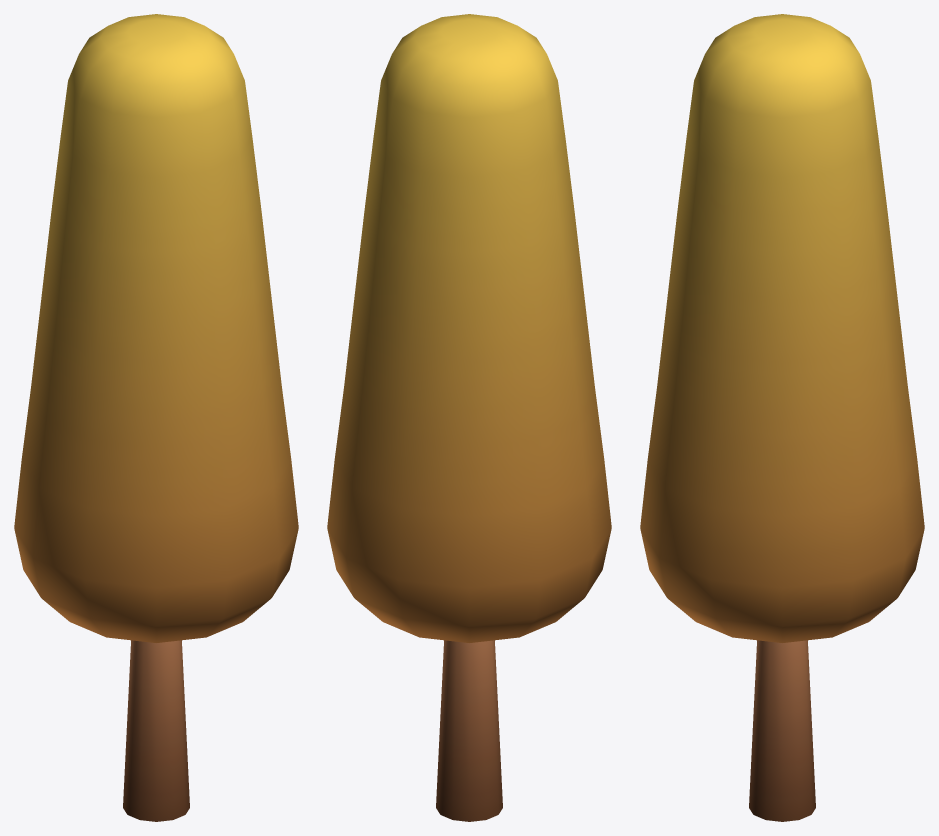
File: lpb_tree_7_c.fbx
The picture shows the model from 3 angles, left to right: view 1: azimuth 30°, elevation 25°; view 2: azimuth 150°, elevation 25°; view 3: azimuth 270°, elevation 25°; orthographic projection.
Visible parts, largest first — view 1: ap_tree_7.002; view 2: ap_tree_7.002; view 3: ap_tree_7.002.
Boxes of the visible parts, x1,y1,x2,y2 form: ap_tree_7.002: [14, 14, 298, 821]; ap_tree_7.002: [327, 14, 611, 821]; ap_tree_7.002: [640, 14, 924, 821].
Size of the model in its own units: 171 by 514 by 171.
